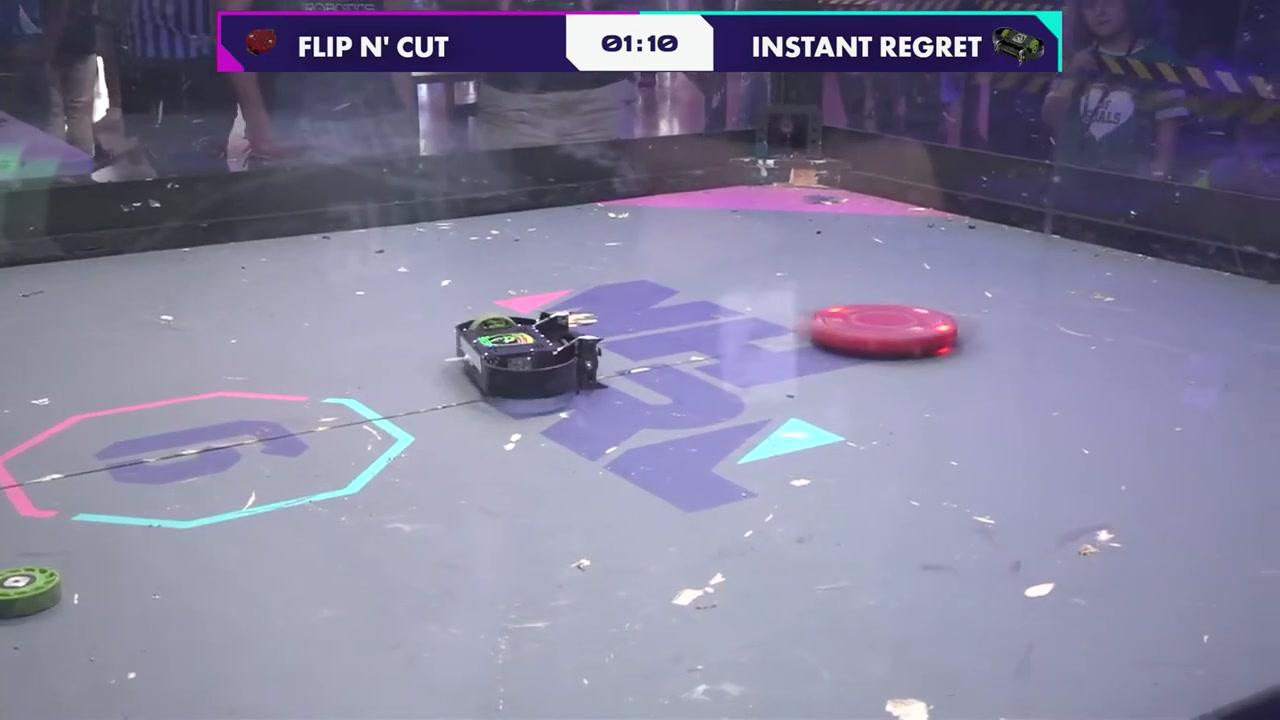combatbot: (450, 307, 607, 400), (805, 303, 965, 362)
wheel: (0, 567, 64, 620)
